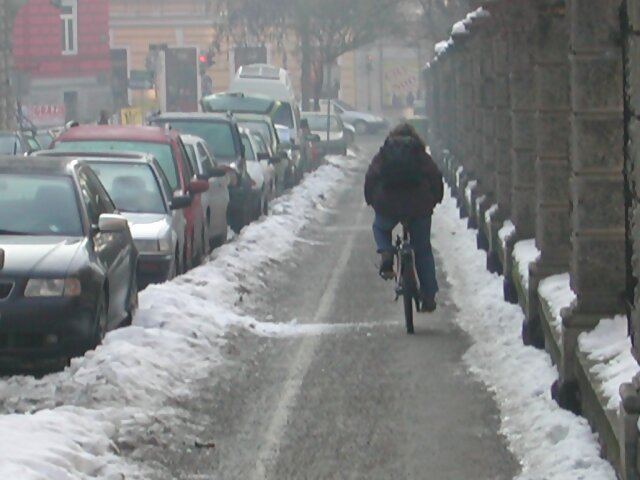person: (358, 111, 456, 323)
